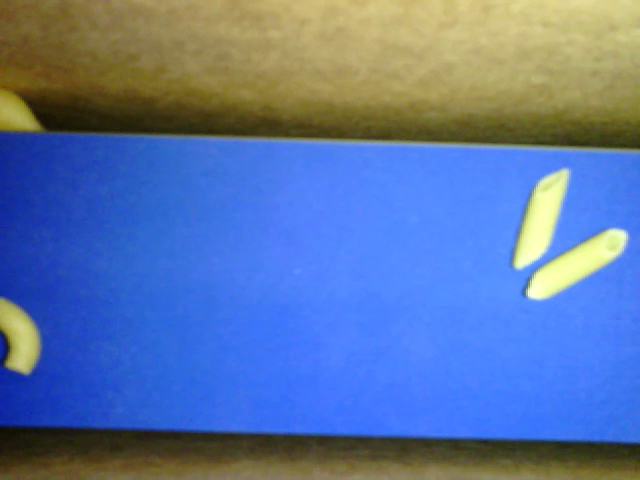elbow: (1, 296, 43, 375)
penne: (526, 226, 629, 300), (511, 167, 570, 269)
